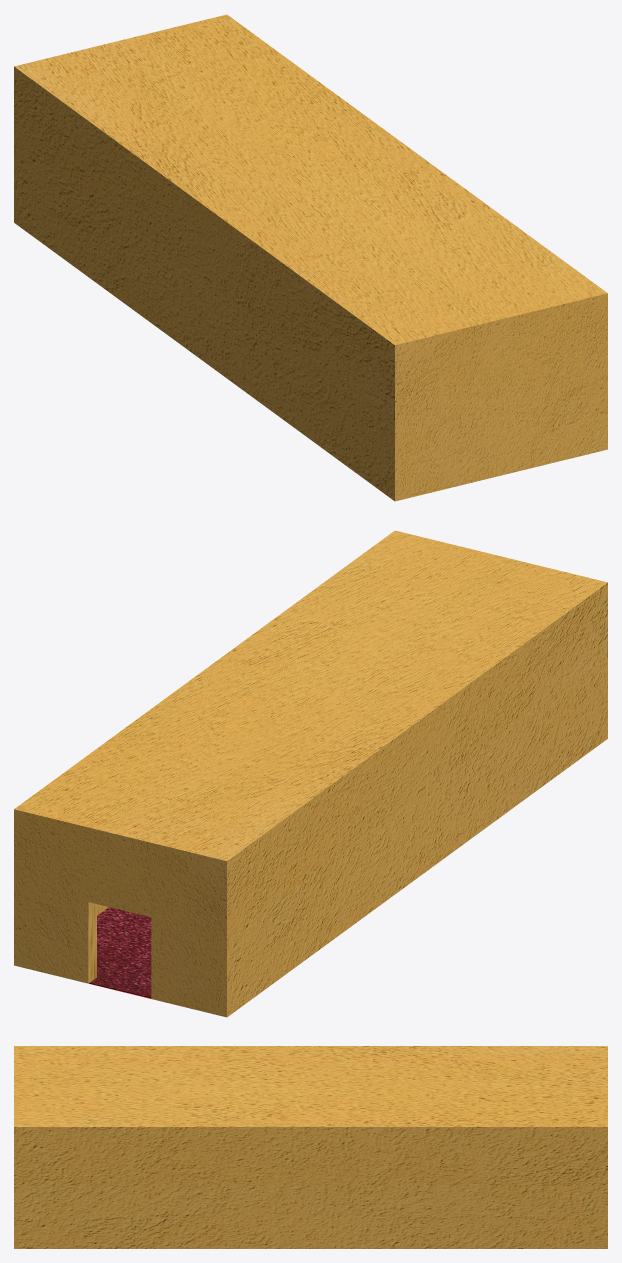
The model's file is End_Room.fbx.
3 views of the same model, one above another, from view 1: azimuth 30°, elevation 25°; view 2: azimuth 150°, elevation 25°; view 3: azimuth 270°, elevation 25° (orthographic). The views are drawn at different scales.
Parts seen in each view (by area): view 1: pPlane7; view 2: pPlane7, pPlane6; view 3: pPlane7.
Boxes of the visible parts, bbox=[...] form: pPlane7: bbox=[14, 14, 607, 501]; pPlane7: bbox=[14, 530, 607, 1017]; pPlane6: bbox=[88, 902, 151, 998]; pPlane7: bbox=[14, 1046, 607, 1248].
Bounding box in the file's own units: 31 × 21.72 × 96.
Materials: 2 (2 with a texture image).
